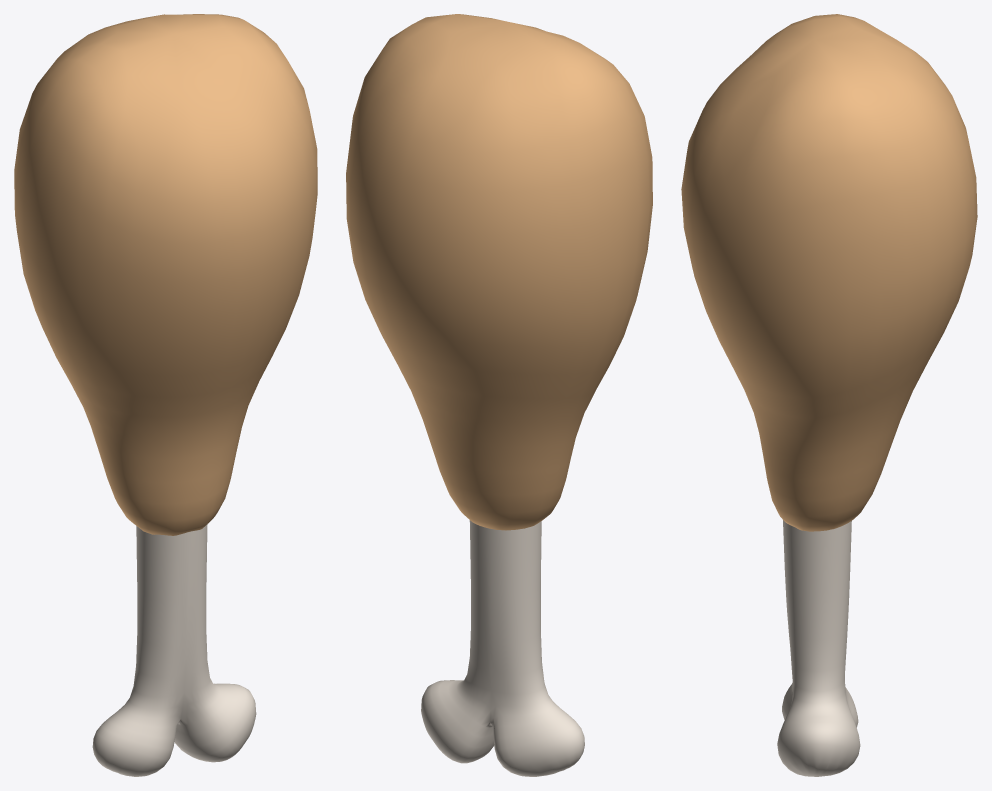
The model's file is chickenLeg.fbx.
The picture shows the model from 3 angles, left to right: view 1: azimuth 30°, elevation 25°; view 2: azimuth 150°, elevation 25°; view 3: azimuth 270°, elevation 25°; orthographic projection. The views are drawn at different scales.
Visible parts, largest first — view 1: Cylinder; view 2: Cylinder; view 3: Cylinder.
Part boxes in pixels (x1,y1,x2,y2): Cylinder: (14, 14, 317, 776); Cylinder: (346, 14, 652, 776); Cylinder: (681, 14, 977, 776).
Size of the model in its own units: 173 by 455 by 170.
